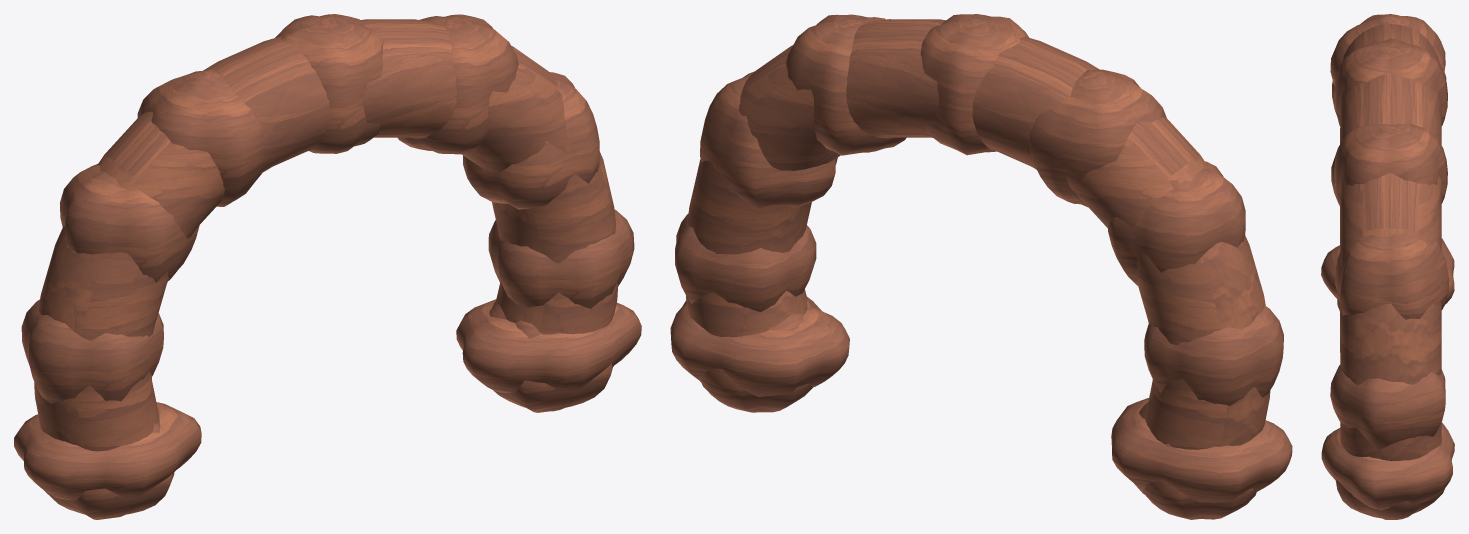
File: arch.glb
3 renders of one model, left to right at view 1: azimuth 30°, elevation 25°; view 2: azimuth 150°, elevation 25°; view 3: azimuth 270°, elevation 25°, orthographic. The views are drawn at different scales.
Visible parts, largest first — view 1: arch; view 2: arch; view 3: arch.
Part boxes in pixels (box(x1,y1,x2,y2)): arch: box(14, 14, 641, 519); arch: box(670, 14, 1292, 519); arch: box(1321, 14, 1454, 519).
Size of the model in its own units: 8.26 by 5.73 by 1.84.
1 material, 1 textured.
